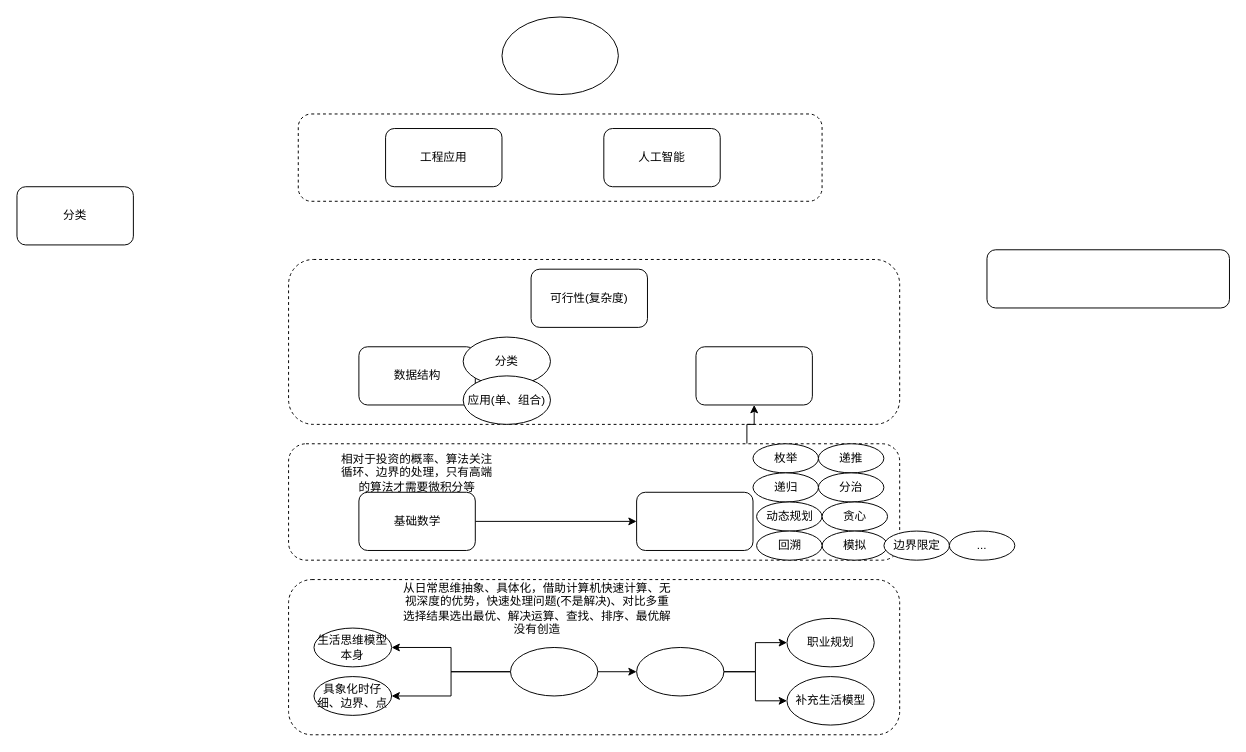
Some shapes in this 1246 by 752 pixel diagram are drawn without their labels. Here are the shapes that lost their labels. From the top down, the centre of each, then its label:
At (559,55): "人生、思维、算法".
At (1107,278): "刻意训练及模型补充leecode".
At (753,375): "算法".
At (694,520): "算法思想".
At (554,671): "是什么".
At (680,671): "为什么".
